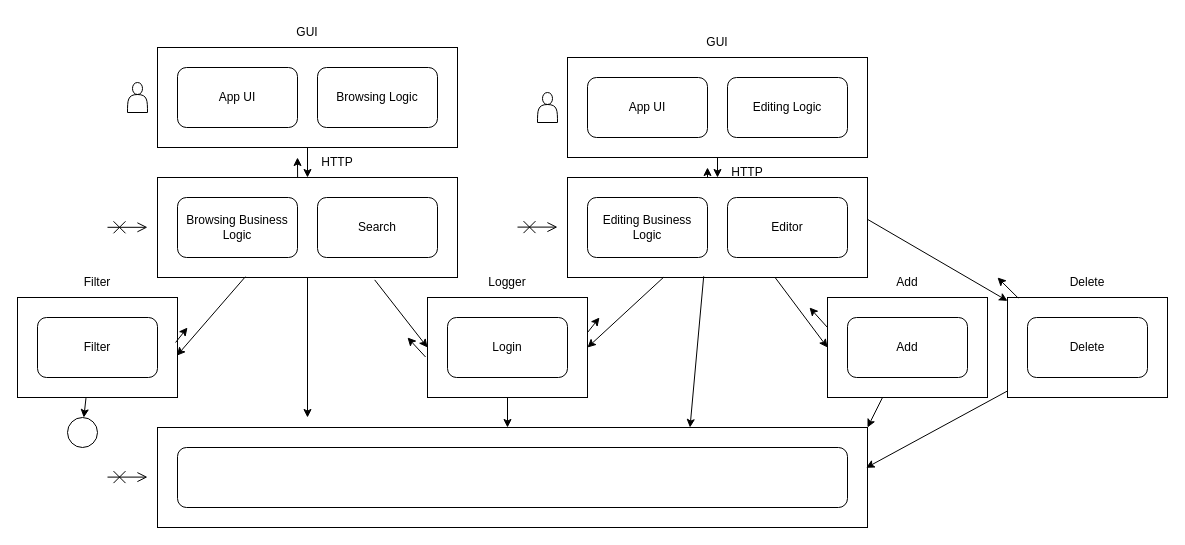
This 1185x545 diagram has some shape labels left out. The centre of each missing label's shape, as x and y in pixels:
Database: (x=512, y=477)
external sys: (x=82, y=432)
